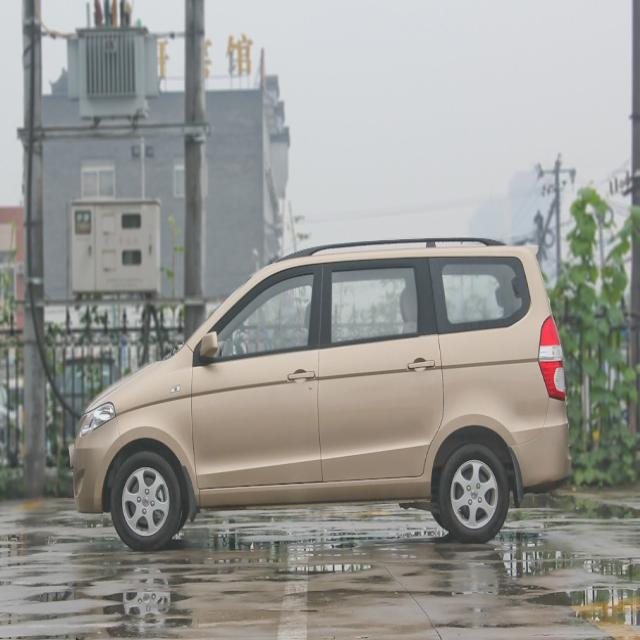back_left_side_light: (537, 313, 567, 403)
door: (323, 258, 448, 486)
front_bumper: (67, 412, 125, 518)
front_left_side_door: (190, 258, 324, 491)
front_left_side_light: (78, 398, 118, 441)
front_left_side_mirror: (197, 329, 219, 363)
rear_bumper: (509, 398, 569, 492)
wheel: (110, 449, 180, 553), (439, 441, 509, 543)
